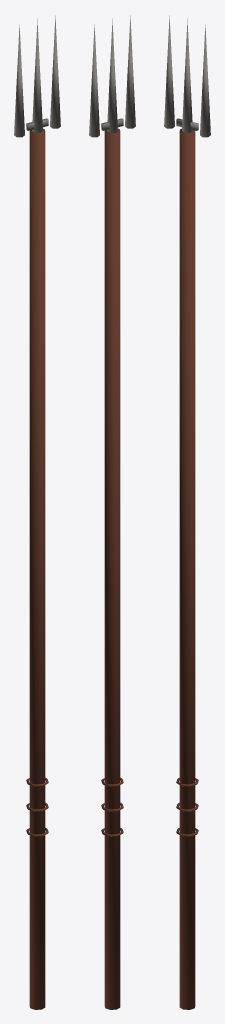
Rendered from trident.glb.
3 views of the same model, side by side, from view 1: azimuth 30°, elevation 25°; view 2: azimuth 210°, elevation 25°; view 3: azimuth 330°, elevation 25° (orthographic).
Visible parts, largest first — view 1: trident; view 2: trident; view 3: trident.
Part boxes in pixels (x1,y1,x2,y2): trident: (14, 15, 60, 1009); trident: (89, 15, 135, 1009); trident: (164, 15, 210, 1009).
Bounding box in the file's own units: 0.0739 × 1.58 × 0.034.
Materials: 2 (1 with a texture image).
